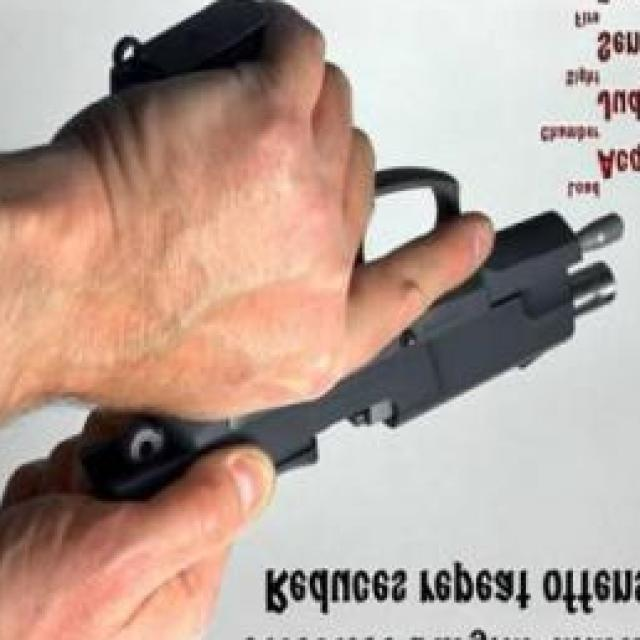pistol: (77, 0, 623, 536)
